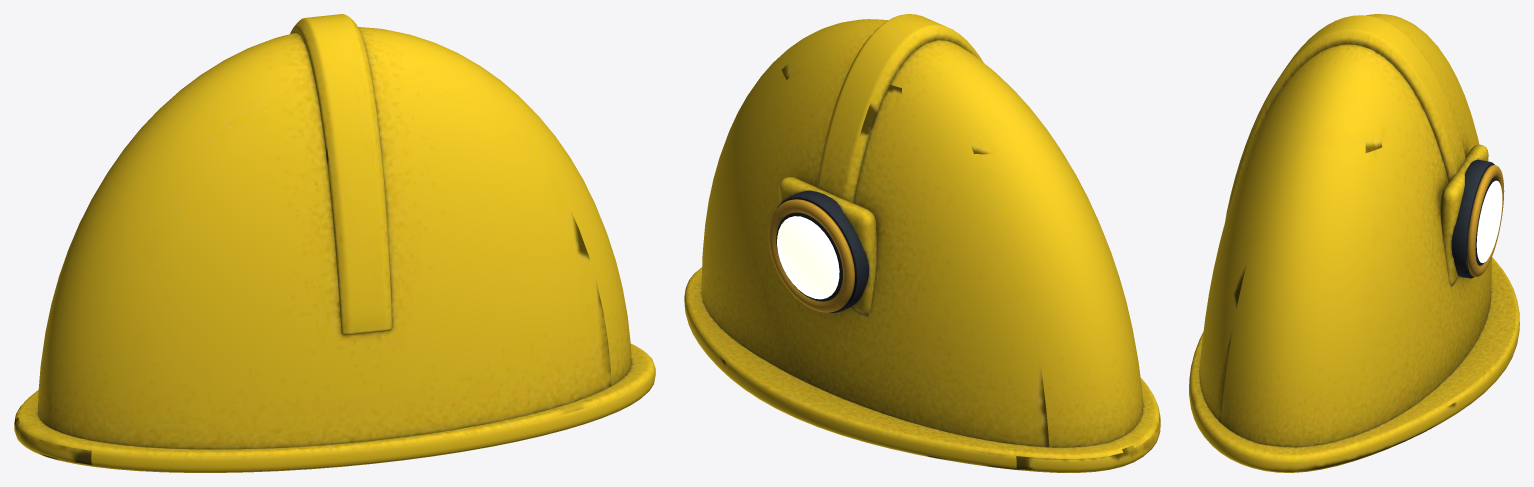
The picture shows the model from 3 angles, left to right: view 1: azimuth 30°, elevation 25°; view 2: azimuth 150°, elevation 25°; view 3: azimuth 270°, elevation 25°; orthographic projection. The views are drawn at different scales.
Visible parts, largest first — view 1: Safety_yellow_enamel; view 2: Safety_yellow_enamel, glow_Warm_headlamp_lens, Polished_lamp_bezel, Graphite_socket; view 3: Safety_yellow_enamel, Graphite_socket, glow_Warm_headlamp_lens, Polished_lamp_bezel.
Boxes of the visible parts, x1=… form: Safety_yellow_enamel: x1=14, y1=14, x2=655, y2=472; Safety_yellow_enamel: x1=684, y1=14, x2=1160, y2=472; glow_Warm_headlamp_lens: x1=777, y1=216, x2=839, y2=299; Polished_lamp_bezel: x1=768, y1=199, x2=854, y2=312; Graphite_socket: x1=776, y1=190, x2=868, y2=312; Safety_yellow_enamel: x1=1189, y1=14, x2=1519, y2=472; Graphite_socket: x1=1451, y1=159, x2=1498, y2=278; glow_Warm_headlamp_lens: x1=1476, y1=180, x2=1502, y2=262; Polished_lamp_bezel: x1=1467, y1=165, x2=1504, y2=276.
Bounding box in the file's own units: 0.7446 × 0.4921 × 0.4386.
Materials: 4 (3 with a texture image).
